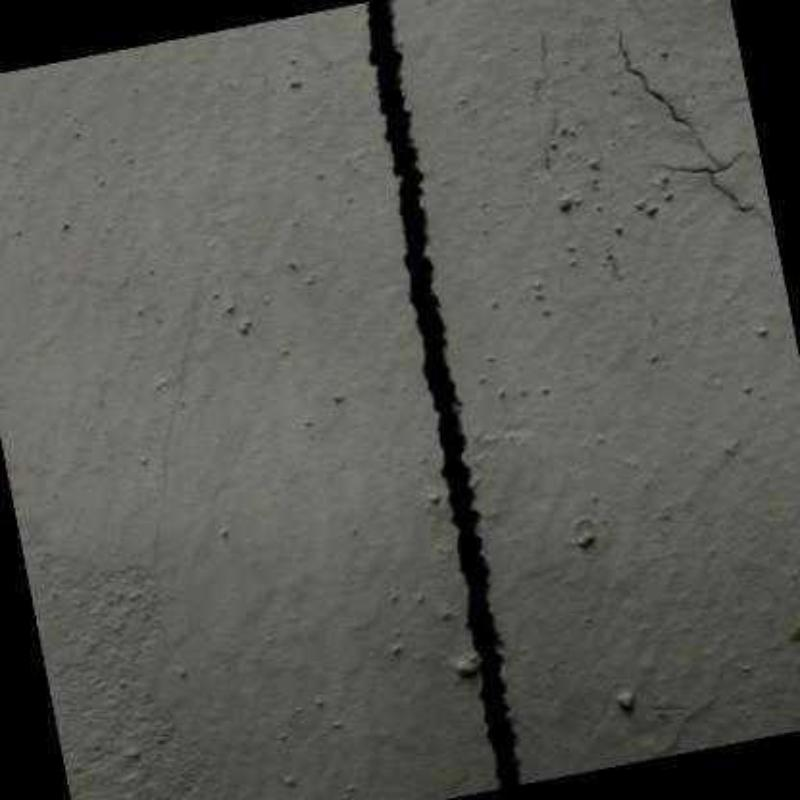pothole: (364, 0, 525, 789), (617, 31, 727, 168), (654, 152, 756, 213)
